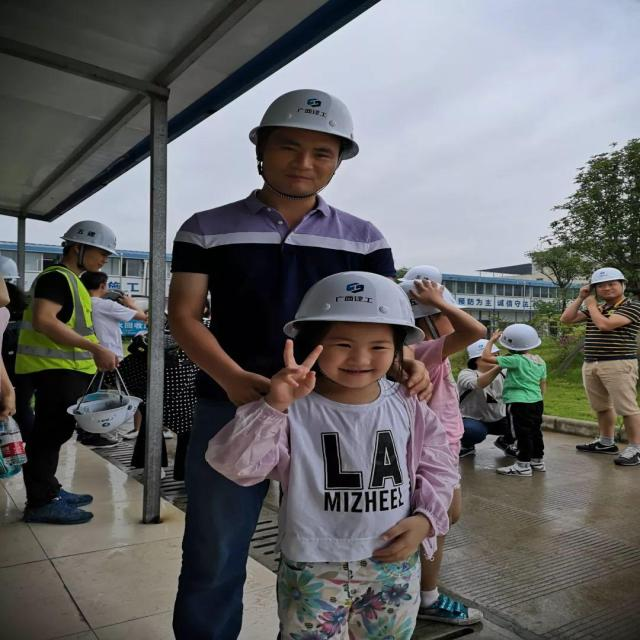helmet: (282, 268, 428, 384), (244, 87, 360, 195), (395, 275, 466, 342), (56, 218, 124, 273), (586, 264, 632, 304), (497, 322, 541, 357), (464, 336, 500, 368)
no_helmet: (75, 269, 110, 299)
